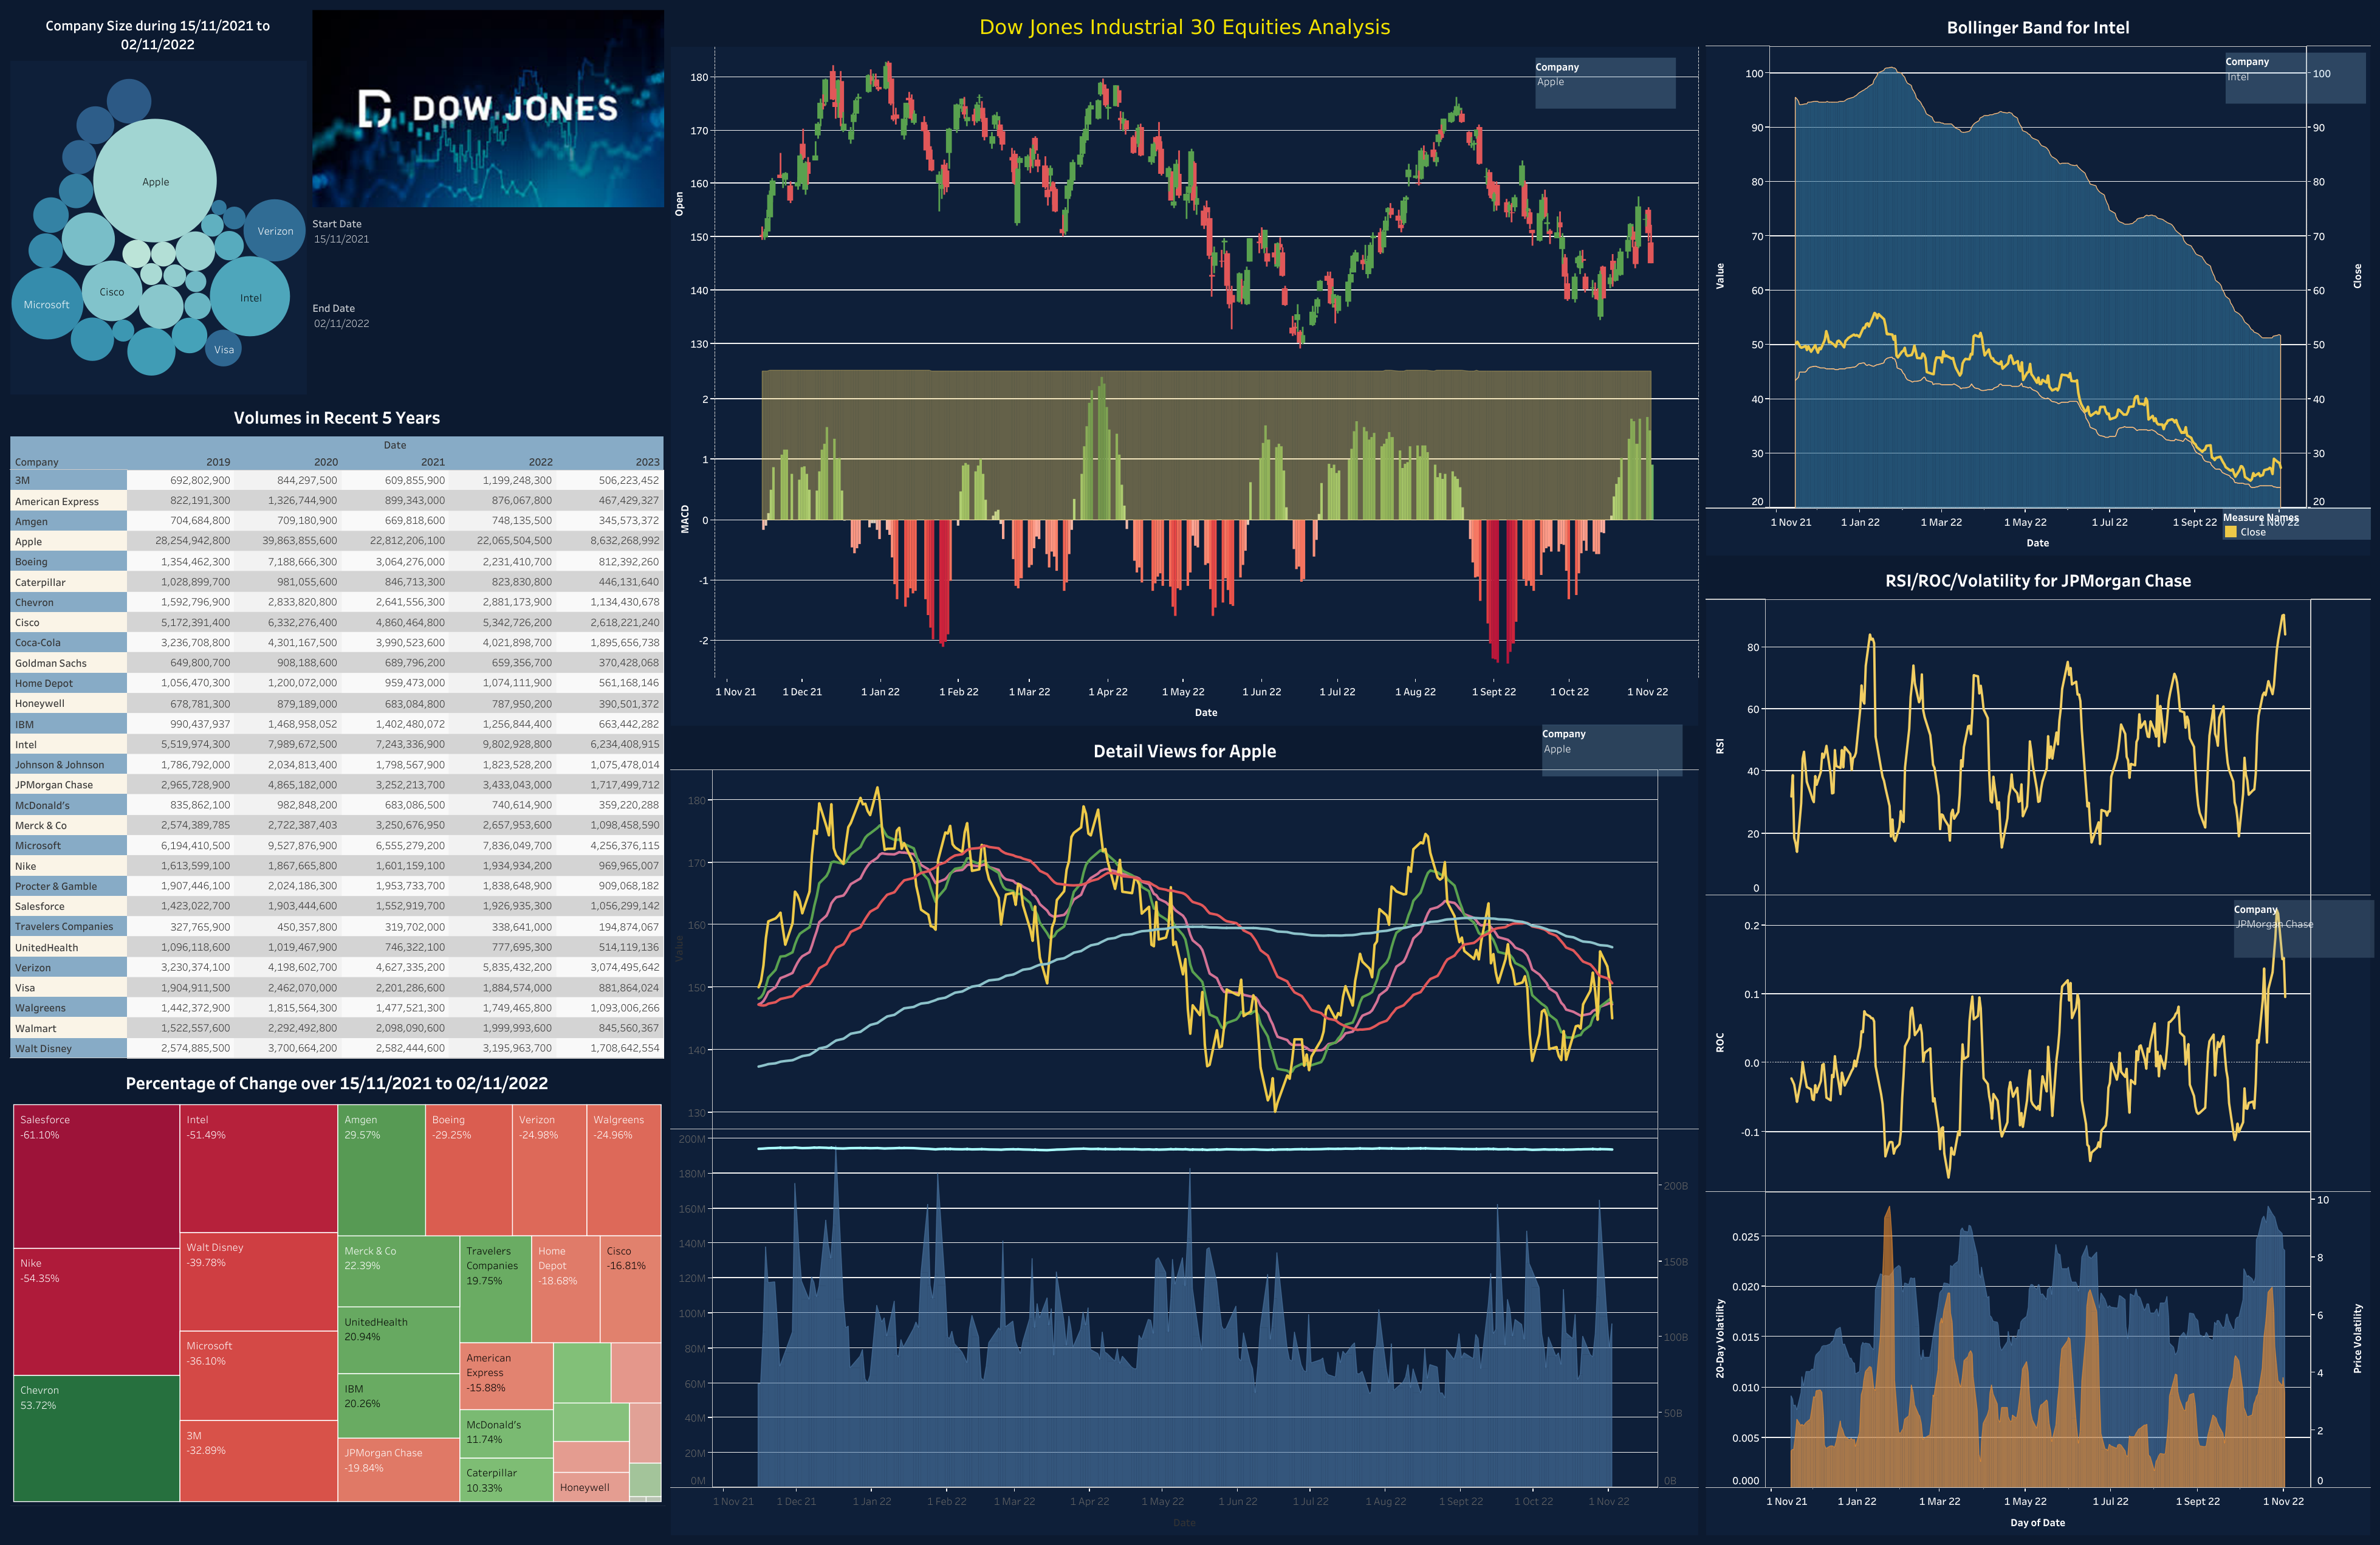

The page's visual inventory and layout, read from the dashboard file:
{"tool":"tableau","page":{"name":"Dashboard 1","canvas":[2850,1850],"ordinal":0},"visuals":[{"type":"worksheet","title":"com_vs_size","mark":"Circle","box":[8,8,362,467]},{"type":"image","param":"D:/Projects/Uploads/stock_dashboard/Stock_Dash.twb Files/Image/dow.jpg","box":[370,8,429,245]},{"type":"worksheet","title":"Sheet 7","mark":"Area","rows":["Open","High","MACD_Histogram","OBV"],"cols":["Date"],"box":[799,8,1239.4,865.3]},{"type":"worksheet","title":"Sheet 5","mark":"Line","rows":["Close"],"cols":["Date"],"box":[2038.4,8,803.6,662]},{"type":"filter","title":"Sheet 5","param":"[federated.1auik5m0mn3si41gpyky90scs4r7].[none:Table Name:nk]","box":[2664,63,168,61]},{"type":"filter","title":"Sheet 7","param":"[federated.1auik5m0mn3si41gpyky90scs4r7].[none:Table Name:nk]","box":[1838,69,168,61]},{"type":"parameter","param":"[Parameters].[Parameter 1]","box":[370,253,429,101]},{"type":"parameter","param":"[Parameters].[Parameter 2]","box":[370,354,429,121]},{"type":"worksheet","title":"Volumn","mark":"Automatic","rows":["Table Name"],"cols":["Date"],"box":[8,475,791,796]},{"type":"legend","title":"Sheet 5","param":"[federated.1auik5m0mn3si41gpyky90scs4r7].[:Measure Names]","box":[2660,607,178,85]},{"type":"worksheet","title":"Sheet 6","mark":"Line","rows":["RSI","ROC","20-Day Volatility","Price Volatility"],"cols":["Date"],"box":[2038.4,670,803.6,1172]},{"type":"filter","title":"Moving Average","param":"[federated.1auik5m0mn3si41gpyky90scs4r7].[none:Table Name:nk]","box":[1846,867,168,62]},{"type":"worksheet","title":"Moving Average","mark":"Line","rows":["Volume","OBV"],"cols":["Date"],"box":[799,873.3,1239.4,968.7]},{"type":"filter","title":"Sheet 6","param":"[federated.1auik5m0mn3si41gpyky90scs4r7].[none:Table Name:nk]","box":[2674,1077,168,69]},{"type":"worksheet","title":"Sheet 8","mark":"Automatic","box":[8,1271,791,571]}]}

Visuals, with their boxes in screenshot pixels (x1, y1, x2, y2), scaled from the page's 2850x1850 canvas onto the 2380x1545 screenshot:
"com_vs_size" worksheet (Circle marks): crop(7, 7, 309, 397)
image: crop(309, 7, 667, 212)
"Sheet 7" worksheet (Area marks): crop(667, 7, 1703, 729)
"Sheet 5" worksheet (Line marks): crop(1703, 7, 2373, 560)
"Sheet 5" filter: crop(2224, 53, 2365, 103)
"Sheet 7" filter: crop(1535, 58, 1675, 109)
parameter: crop(309, 212, 667, 295)
parameter: crop(309, 295, 667, 397)
"Volumn" worksheet: crop(7, 397, 667, 1061)
"Sheet 5" legend: crop(2221, 507, 2370, 578)
"Sheet 6" worksheet (Line marks): crop(1703, 560, 2373, 1538)
"Moving Average" filter: crop(1542, 724, 1682, 776)
"Moving Average" worksheet (Line marks): crop(667, 729, 1703, 1538)
"Sheet 6" filter: crop(2233, 900, 2373, 957)
"Sheet 8" worksheet: crop(7, 1061, 667, 1538)
